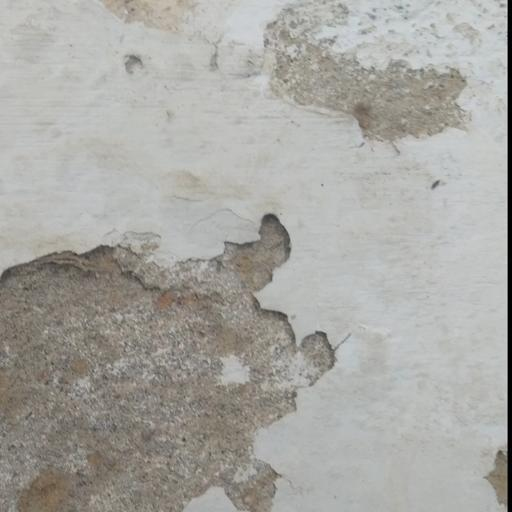peeling: (0, 162, 342, 512), (216, 0, 512, 153), (465, 444, 512, 512), (107, 50, 156, 90)
